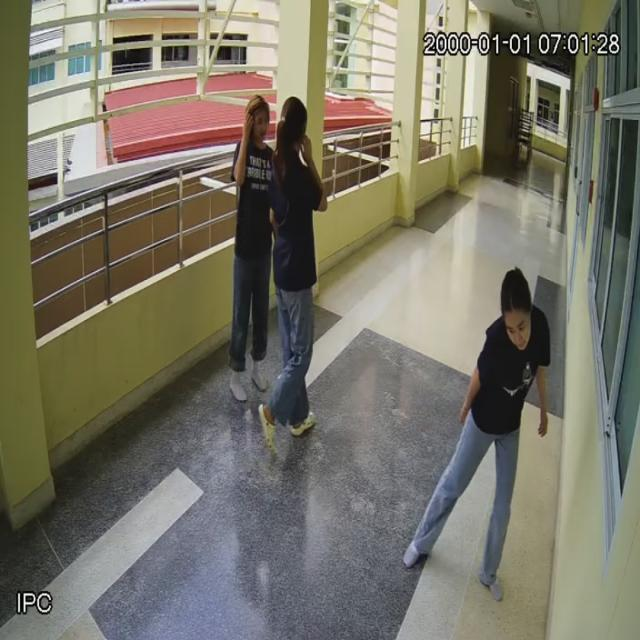normal: (393, 262, 556, 614), (257, 89, 339, 455), (224, 95, 279, 412)
